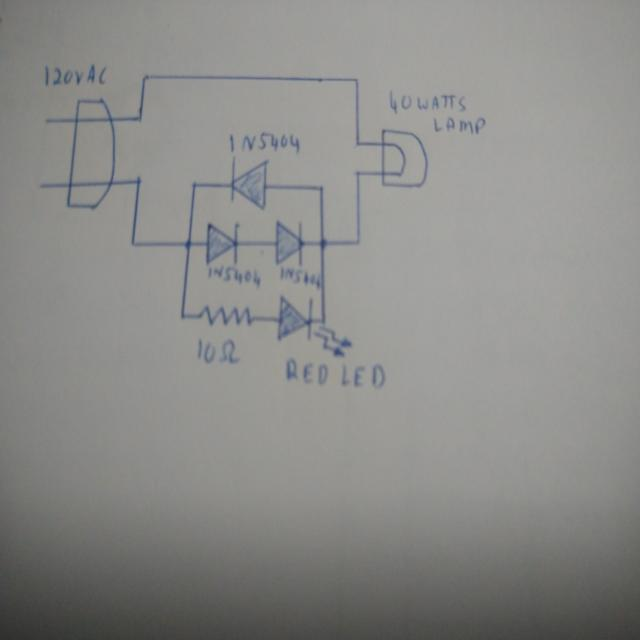diode: (276, 293, 354, 357), (228, 154, 270, 213), (203, 219, 242, 266), (272, 216, 304, 268)
junction: (317, 235, 331, 254), (183, 238, 194, 252), (128, 236, 138, 251), (140, 70, 150, 84), (178, 309, 189, 321), (353, 235, 363, 248), (134, 174, 144, 187), (354, 168, 364, 180), (317, 183, 327, 194), (135, 112, 144, 124), (353, 74, 361, 86), (354, 137, 362, 148), (190, 180, 198, 190)
resistor: (197, 302, 254, 330)
terminal: (40, 116, 52, 127), (34, 182, 46, 193)
text: (282, 355, 388, 393), (386, 86, 467, 113), (226, 129, 301, 156), (40, 61, 109, 90), (207, 263, 266, 292), (193, 335, 241, 366), (430, 112, 486, 136), (274, 265, 320, 290)
